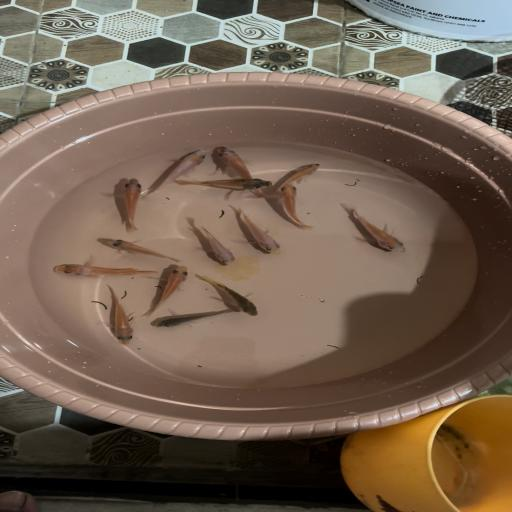nila: (337, 200, 409, 260), (196, 275, 268, 318), (50, 256, 158, 283), (184, 217, 240, 269), (96, 286, 138, 351), (150, 146, 208, 193), (204, 144, 260, 192), (258, 160, 323, 201), (232, 210, 284, 260), (141, 266, 194, 314), (150, 309, 240, 337), (99, 237, 186, 264), (273, 185, 321, 232), (116, 178, 156, 234), (181, 172, 268, 194)
